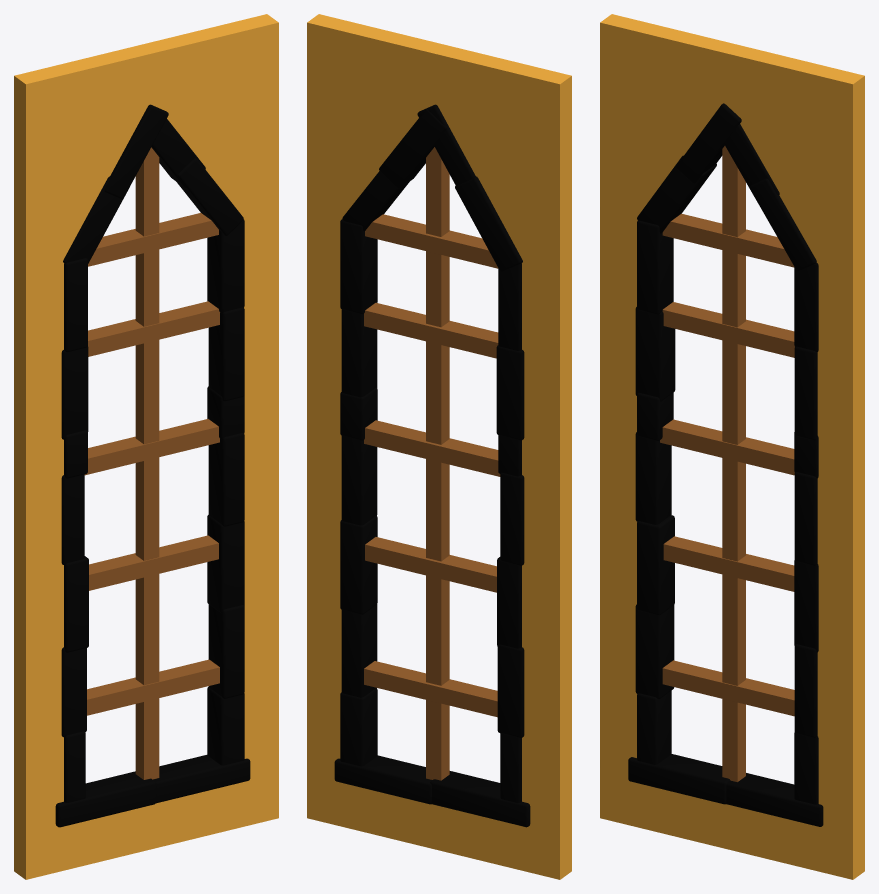
File: Wall H 4.fbx
3 renders of one model, left to right at view 1: azimuth 30°, elevation 25°; view 2: azimuth 150°, elevation 25°; view 3: azimuth 330°, elevation 25°, orthographic.
Visible parts, largest first — view 1: Wall H 4; view 2: Wall H 4; view 3: Wall H 4.
Part boxes in pixels (bbox=[...]): Wall H 4: bbox=[14, 14, 278, 879]; Wall H 4: bbox=[307, 14, 571, 879]; Wall H 4: bbox=[600, 14, 864, 879].
Size of the model in its own units: 249 by 747 by 30.16.
Materials: 1 (1 with a texture image).
